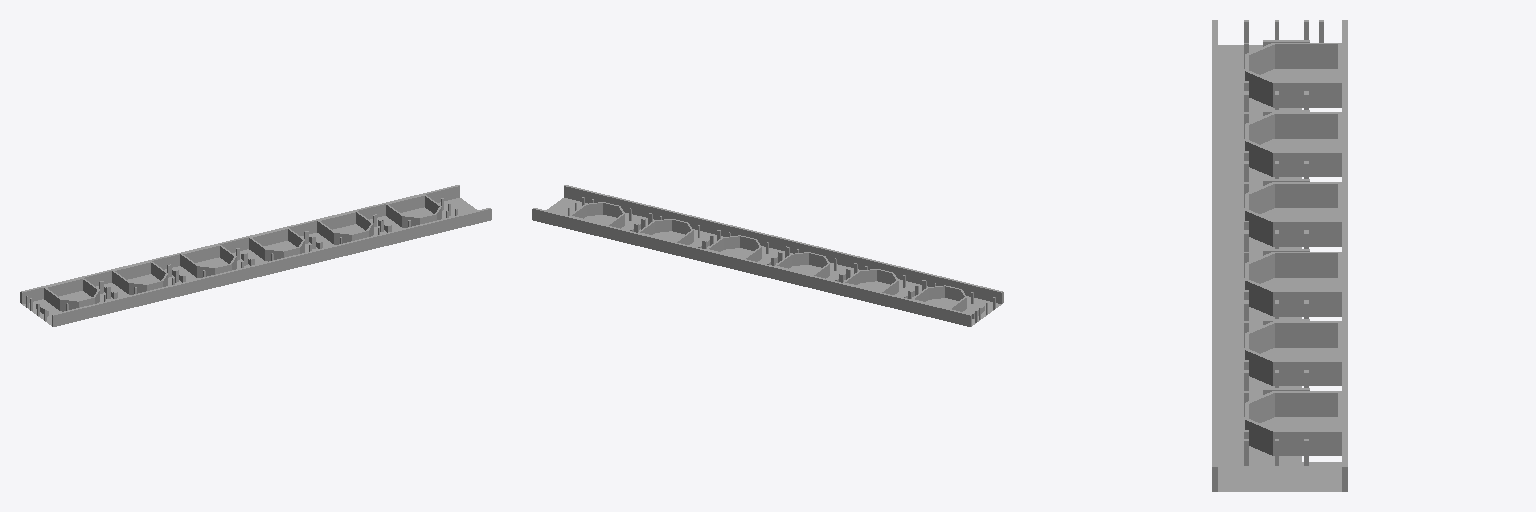
URDF robot description (electrical_mezzanine):
<?xml version="1.0"?>
<!-- 电气夹层静态场景（由 SolidWorks 导出，SW2URDF v1.5.1）。
     单 link 静态网格；去掉了导出的大质量 <inertial>（静态模型无需惯性）。
     网格沿用原 link 名 dianqi_ground。 -->
<robot name="electrical_mezzanine">
  <link name="dianqi_ground">
    <visual>
      <origin xyz="0 0 0" rpy="0 0 0"/>
      <geometry>
        <mesh
          filename="package://xczs_inspection_robot_description/meshes/scenes/electrical_mezzanine/dianqi_ground.STL"/>
      </geometry>
      <material name="scene_grey">
        <color rgba="0.698039215686274 0.698039215686274 0.698039215686274 1"/>
      </material>
    </visual>
    <collision>
      <origin xyz="0 0 0" rpy="0 0 0"/>
      <geometry>
        <mesh
          filename="package://xczs_inspection_robot_description/meshes/scenes/electrical_mezzanine/dianqi_ground.STL"/>
      </geometry>
    </collision>
  </link>
  <gazebo>
    <static>true</static>
  </gazebo>
</robot>

--- What the picture shows (computed from the rendered views, not written in the file) ---
3 views of the same robot in one strip: view 1: azimuth 30°, elevation 25°; view 2: azimuth 150°, elevation 25°; view 3: azimuth 270°, elevation 25° (orthographic).
Model electrical_mezzanine with 1 links and 0 joints (none), rooted at dianqi_ground, posed every joint at zero.
Visible links, largest first — view 1: dianqi_ground; view 2: dianqi_ground; view 3: dianqi_ground.
Link boxes in pixels (x1,y1,x2,y2): dianqi_ground: (20, 185, 491, 326); dianqi_ground: (532, 185, 1003, 326); dianqi_ground: (1212, 20, 1347, 491).
Size in the robot's own frame: 196 by 25.4 by 5 metres.
1 mesh visuals loaded from 1 distinct referenced files (1 binary STL).
